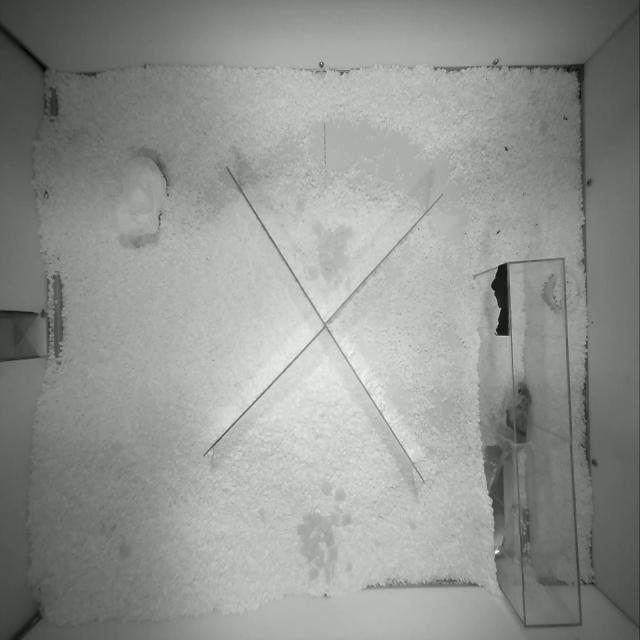adult_front: (487, 382, 531, 492)
